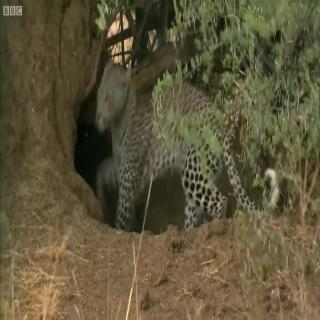Leopard: (91, 50, 277, 226)
